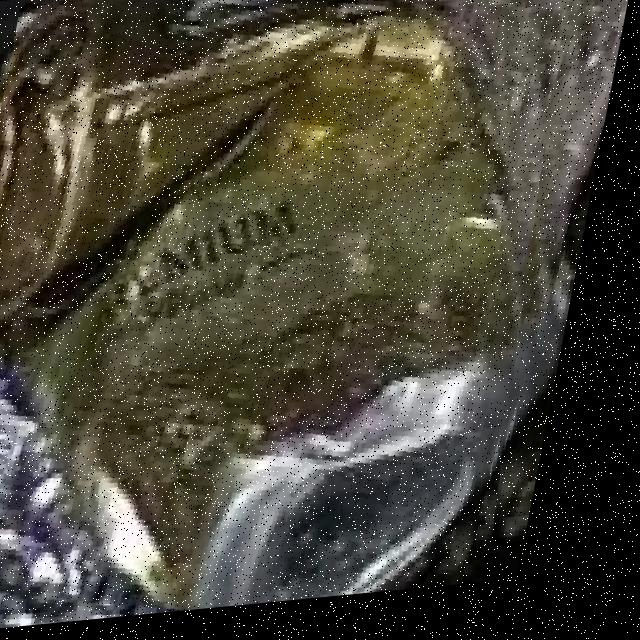litter: (0, 0, 545, 615)
